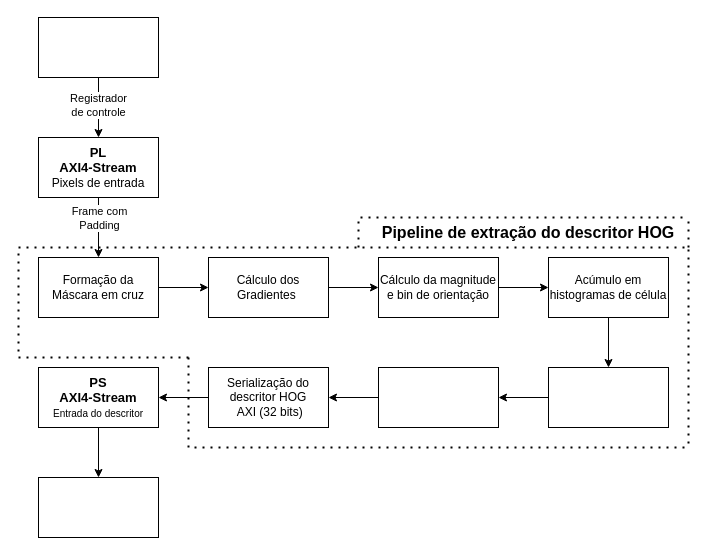
Some shapes in this 707 by 555 pixel diagram are drawn without their labels. Each missing label, with the centre of its shape:
"Binarização por média do bloco" belongs at [438,397].
"Formação dos histogramas de bloco" belongs at [608,397].
"PS AXI4-Lite Sinal de start" belongs at [98,47].
"PS TRACKING" belongs at [98,507].
